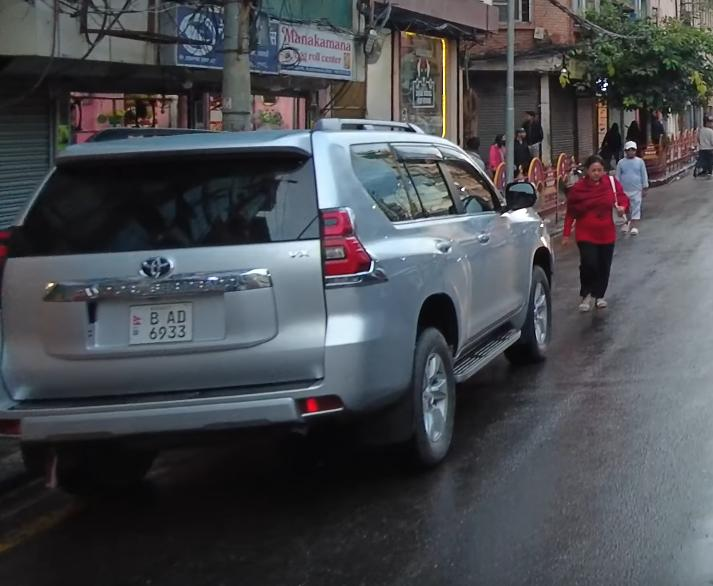SUV: (0, 117, 567, 477)
